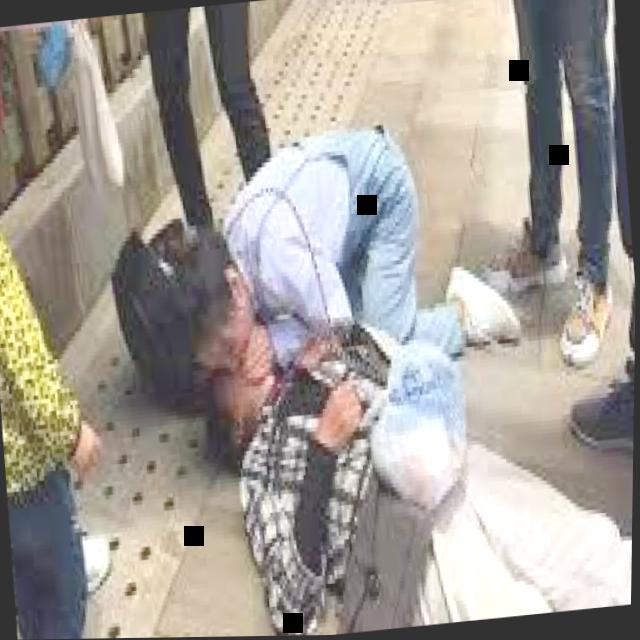Fall-Detected: (177, 246, 637, 638)
